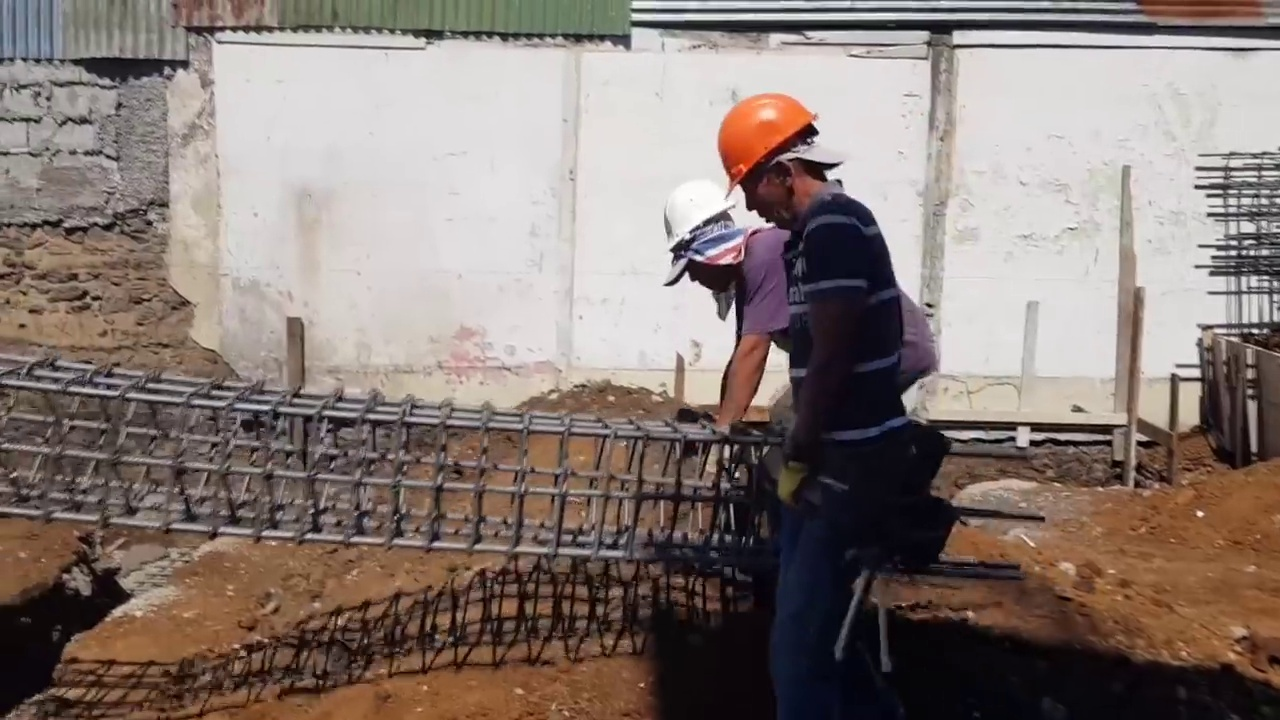helmet: (719, 102, 826, 206), (660, 182, 731, 263)
helmet-on: (718, 100, 843, 232), (658, 186, 767, 290)
person: (711, 96, 941, 718), (668, 179, 801, 442)
